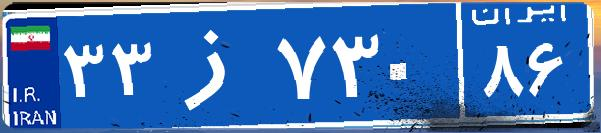0: (385, 28, 445, 110)
3: (330, 28, 385, 110), (57, 26, 110, 107), (110, 28, 158, 105)
6: (525, 38, 570, 115)
7: (273, 28, 330, 110)
8: (475, 38, 525, 113)
ز: (158, 15, 273, 115)
